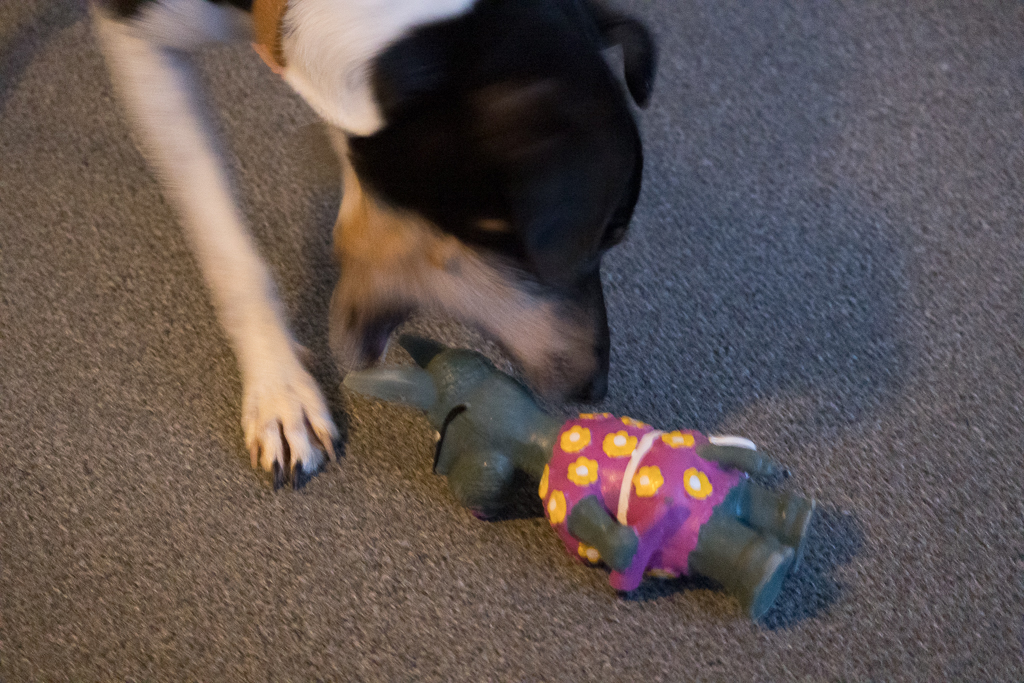Dog: (73, 0, 676, 503)
Humanoid: (336, 322, 850, 642)
